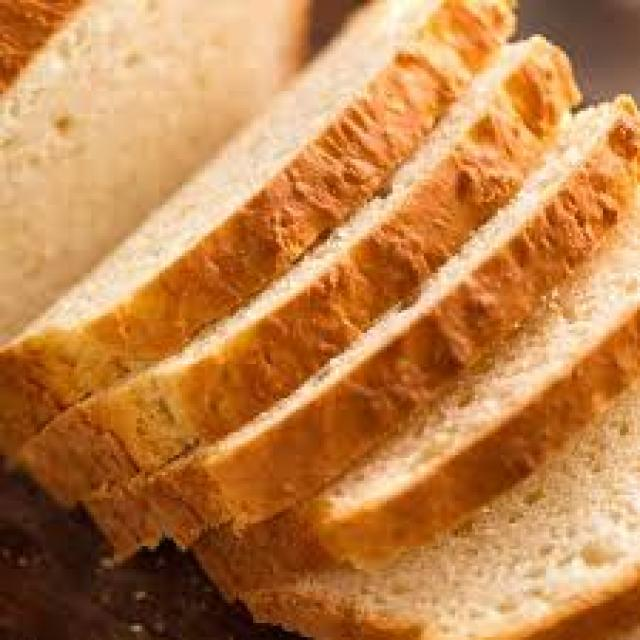organic waste: (17, 31, 577, 504), (77, 91, 637, 560), (0, 0, 512, 444), (188, 182, 637, 597), (242, 373, 637, 637), (0, 0, 304, 327)
